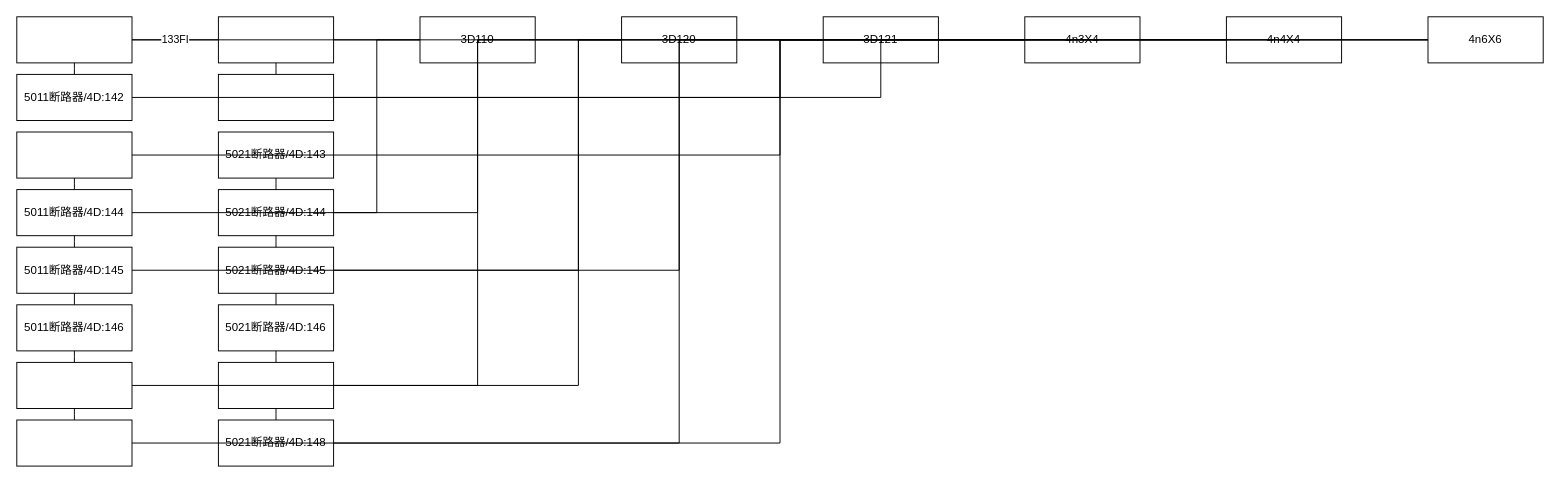
Some shapes in this 1560 by 483 pixel diagram are drawn without their labels. Here are the shapes that lost their labels. From the top down, the centre of each, then its label:
At [74,39]: "5011断路器/4D:141".
At [275,39]: "5021断路器/4D:141".
At [275,96]: "5021断路器/4D:142".
At [74,154]: "5011断路器/4D:143".
At [74,384]: "5011断路器/4D:147".
At [275,384]: "5021断路器/4D:147".
At [74,442]: "5011断路器/4D:148".
